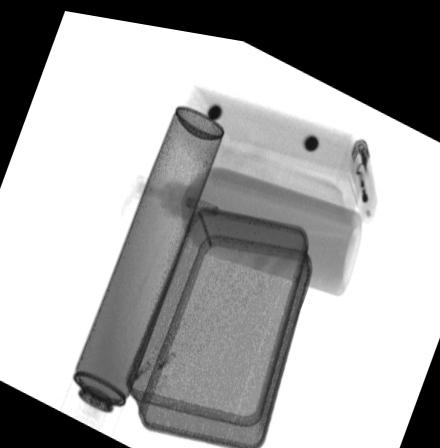Lighter: (349, 124, 378, 206)
Sprayer: (59, 101, 224, 434)
